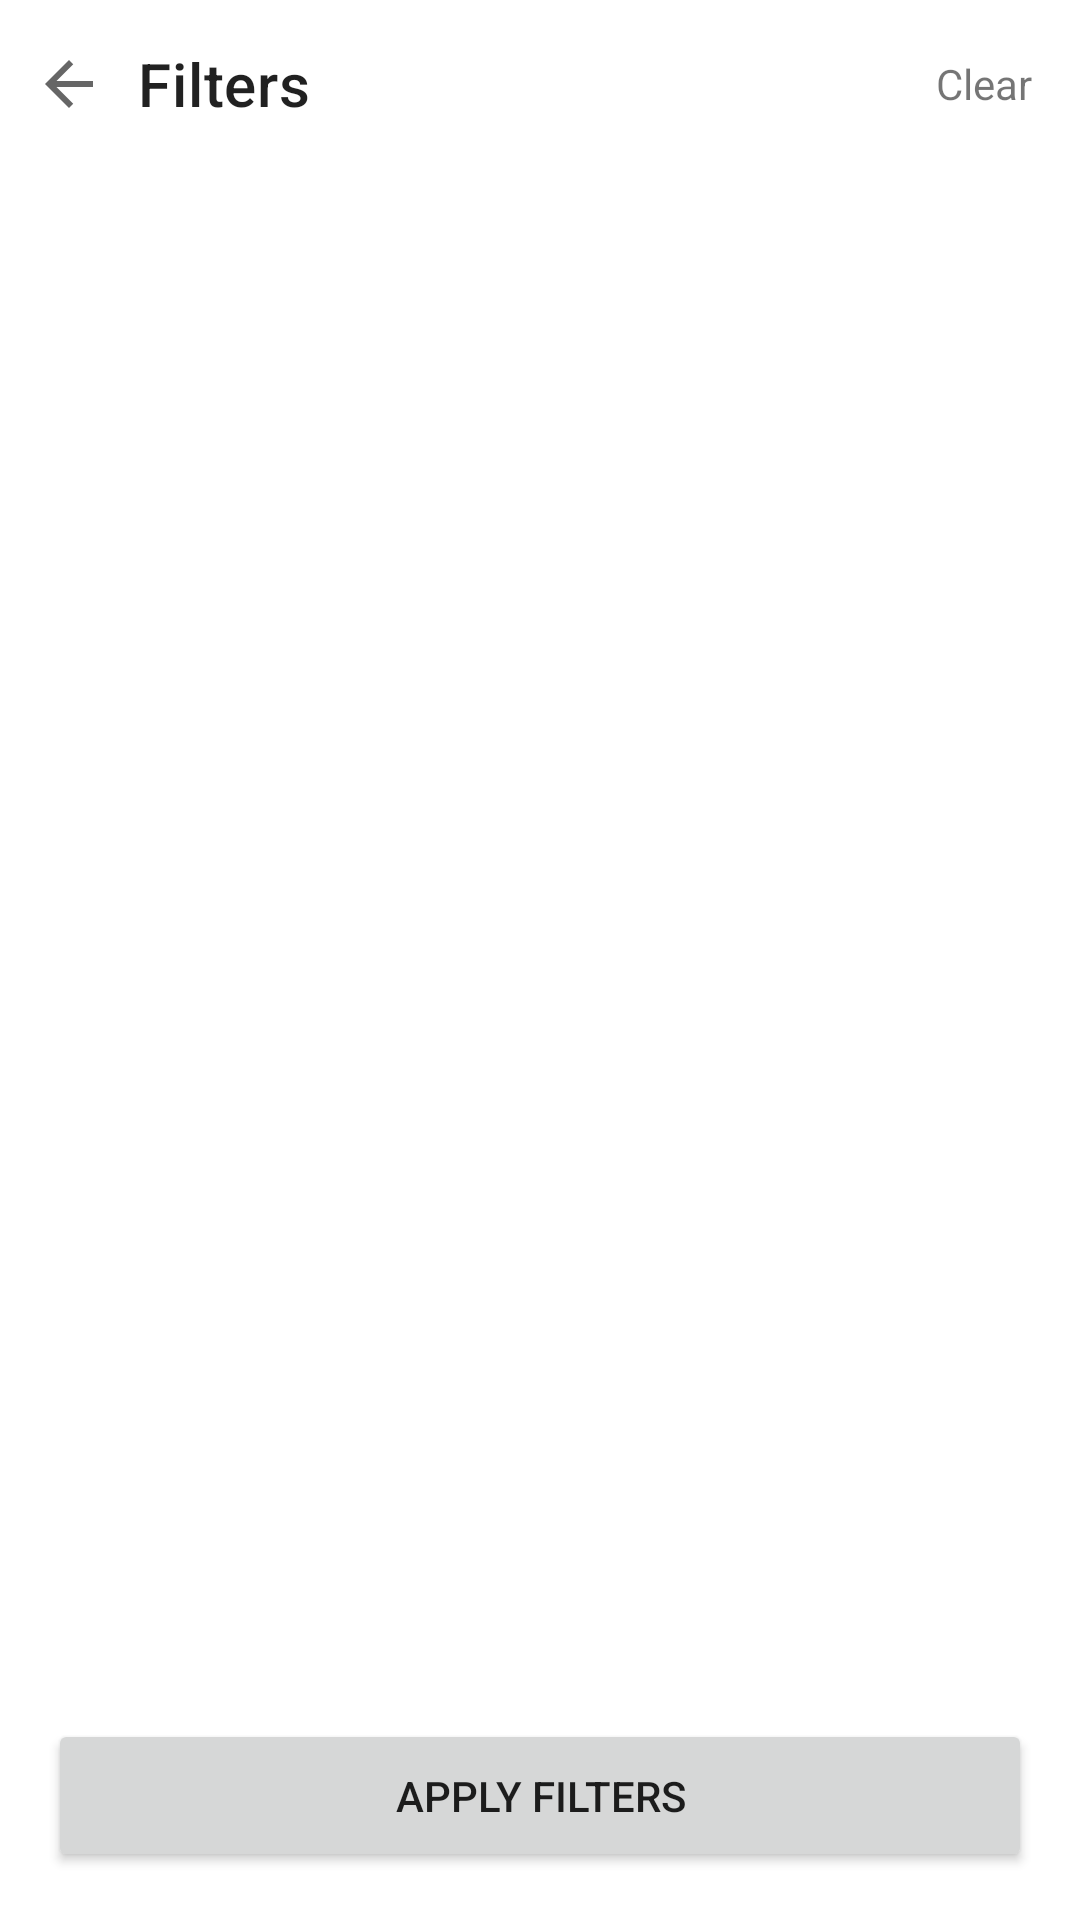

Screen size 1080 × 1920. Icon name, then its box in pixels as region(x1, y1, x2, y2):
back: region(45, 60, 93, 108)
